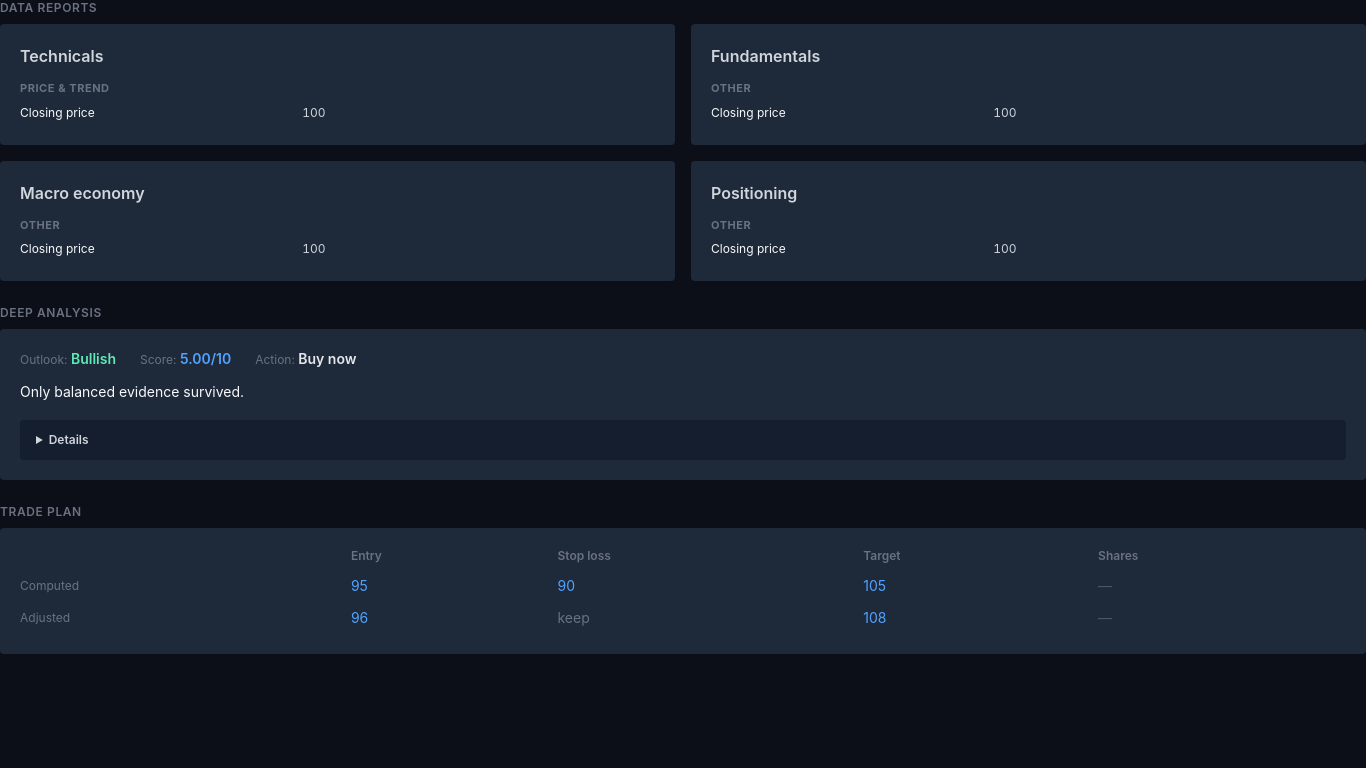
AltResult evidence vote tree › opens the flat formula from the header score; no outlook-bands block
Click the button with test id "alt-debate-score".
click(206, 359)  # box [180, 349, 231, 369]
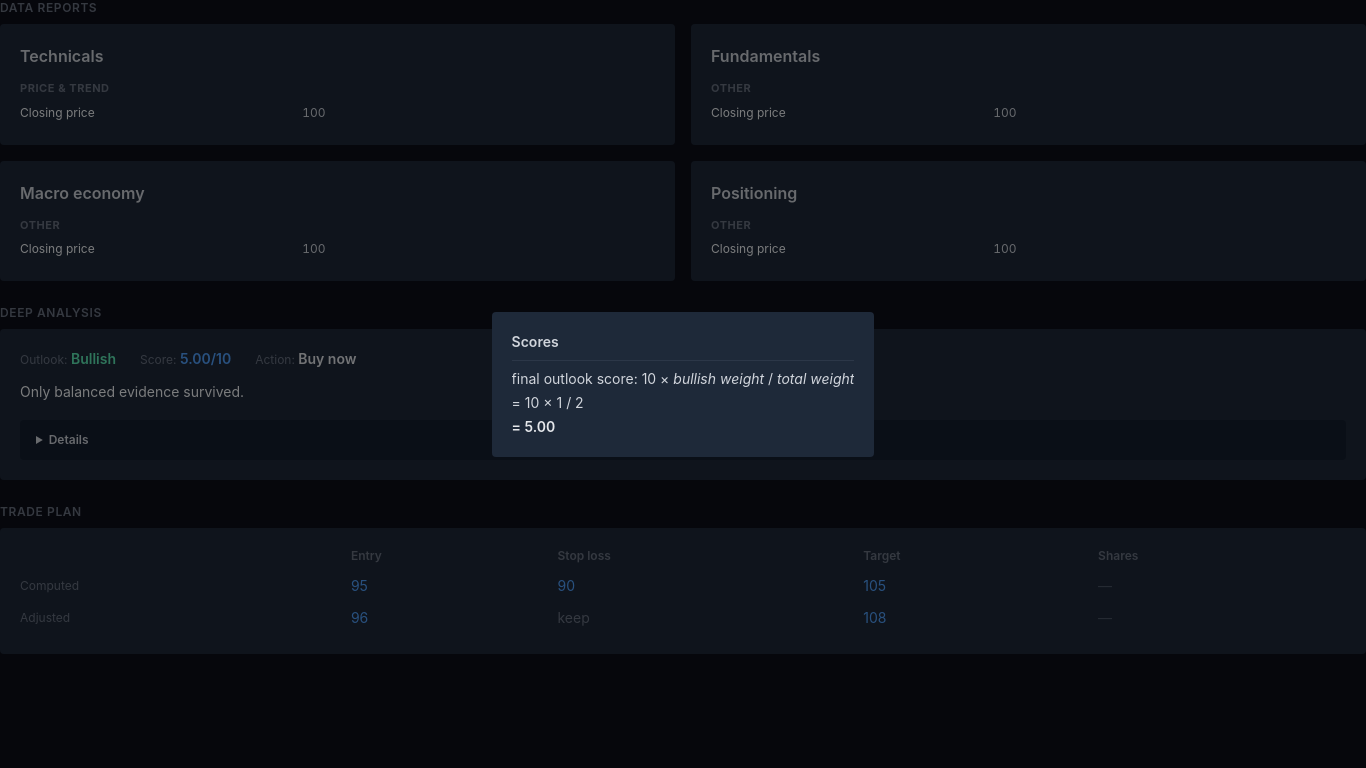
Expected: the element with test id "alt-tree-scores" reads "final outlook score: 10 × bullish weight / total weight = 10 × 1 / 2 = 5.00", [512, 368, 854, 436]
Expected: the text with test id "alt-tree-final-formula" reads "= 10 × 1 / 2", [512, 394, 584, 410]
Expected: the element that starts with "final outlook score" shows "= 5.00", [512, 368, 854, 436]
